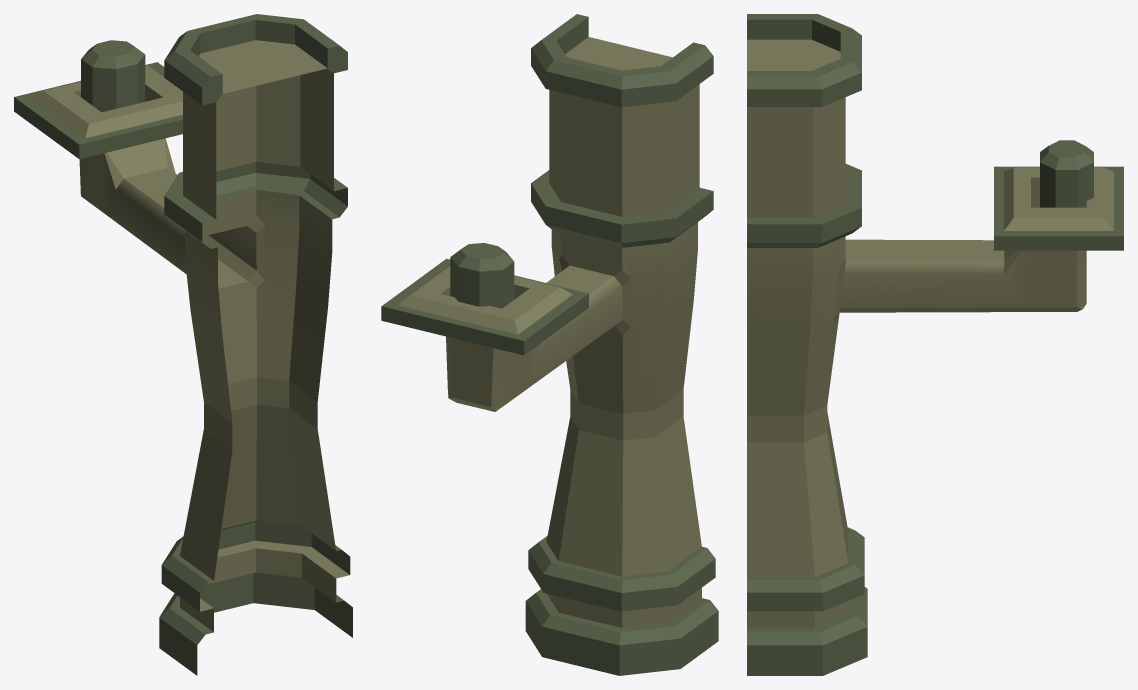
Rendered from lantern_body.fbx.
The picture shows the model from 3 angles, left to right: view 1: azimuth 30°, elevation 25°; view 2: azimuth 150°, elevation 25°; view 3: azimuth 270°, elevation 25°; orthographic projection.
Parts seen in each view (by area): view 1: lantern_body, lantern_body_ligh; view 2: lantern_body, lantern_body_ligh; view 3: lantern_body, lantern_body_ligh.
Part boxes in pixels (x1=…): lantern_body: x1=14, y1=14, x2=352, y2=675; lantern_body_ligh: x1=81, y1=40, x2=145, y2=112; lantern_body: x1=381, y1=14, x2=718, y2=675; lantern_body_ligh: x1=450, y1=243, x2=514, y2=308; lantern_body: x1=747, y1=14, x2=1123, y2=675; lantern_body_ligh: x1=1040, y1=140, x2=1093, y2=207.
Bounding box in the file's own units: 0.7815 × 2.86 × 1.65.
